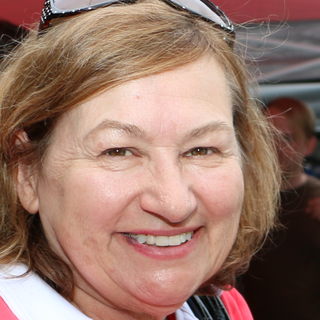eye: (93, 141, 145, 164), (178, 141, 226, 163)
